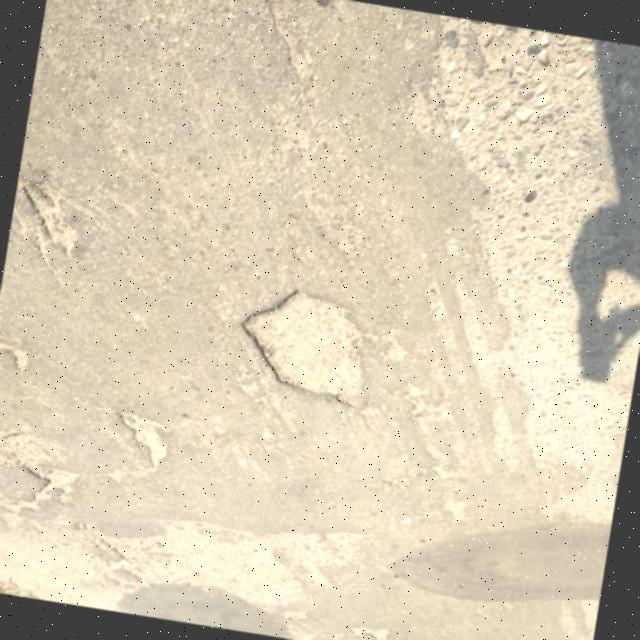Pothole: (241, 289, 371, 412)
